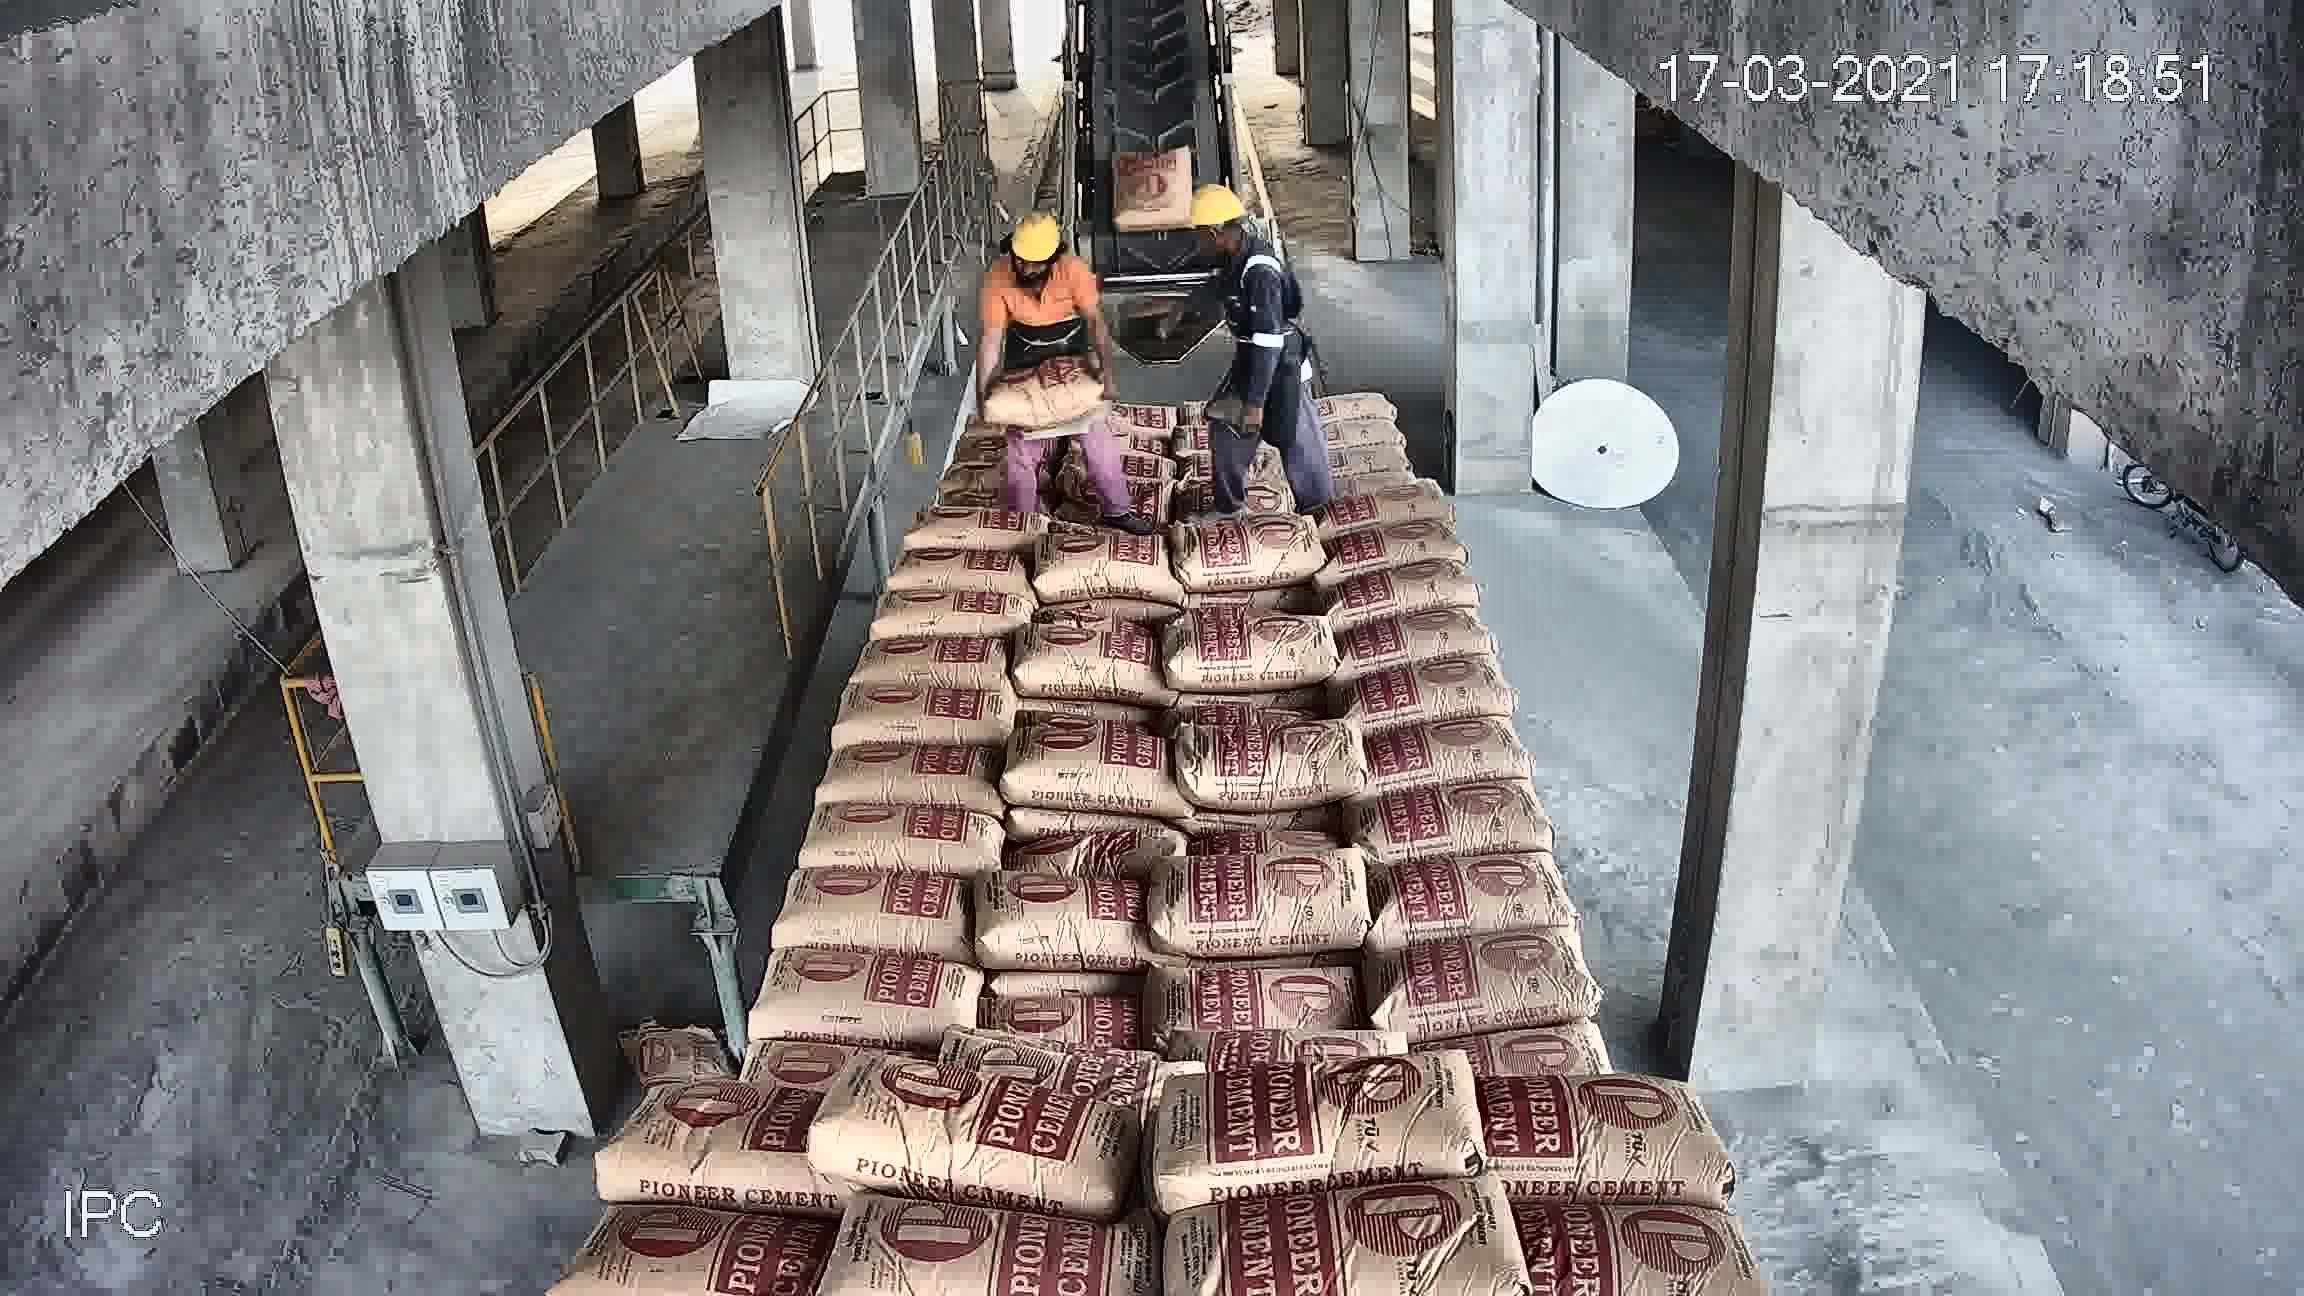bag: (1112, 142, 1196, 229)
bag_h: (1138, 1052, 1480, 1207), (1168, 1163, 1551, 1285), (812, 1060, 1139, 1196), (1454, 1082, 1715, 1203), (603, 1070, 821, 1199), (1508, 1188, 1761, 1296), (1348, 929, 1598, 1036), (834, 1214, 1158, 1291), (570, 1188, 799, 1296), (1158, 851, 1375, 961), (745, 945, 987, 1040), (1351, 843, 1578, 942), (1324, 704, 1537, 794), (962, 873, 1157, 972), (1160, 938, 1350, 1036), (1180, 715, 1362, 815), (1321, 647, 1521, 734), (1355, 777, 1554, 862), (790, 801, 1005, 880), (1165, 494, 1323, 593), (771, 873, 964, 954), (1158, 609, 1351, 684), (983, 728, 1166, 805), (828, 673, 1014, 747), (1445, 1008, 1625, 1084), (995, 620, 1165, 696), (987, 824, 1184, 888), (1025, 514, 1171, 598), (798, 752, 1010, 805), (880, 578, 1040, 649), (1190, 1013, 1416, 1062), (994, 986, 1146, 1059), (932, 1043, 1195, 1084), (853, 628, 1014, 692), (1329, 510, 1468, 578), (1334, 600, 1502, 655), (1313, 465, 1453, 530), (888, 533, 1033, 592), (1355, 559, 1492, 616), (892, 497, 1049, 546), (989, 359, 1090, 423), (1287, 437, 1424, 475), (1309, 408, 1419, 446), (1328, 377, 1415, 413), (1109, 388, 1188, 427), (1108, 449, 1185, 483)
belt: (1063, 33, 1245, 347)
